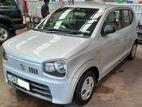car: (2, 5, 137, 104)
